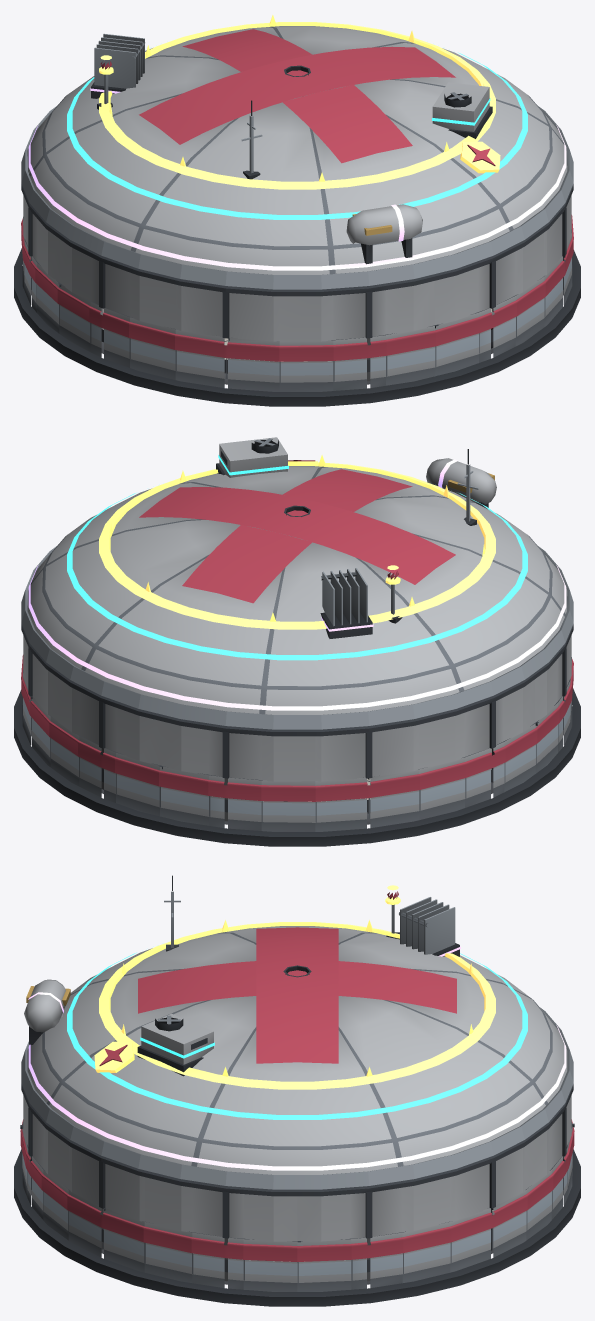
The model's file is medical_m_far.glb.
3 renders of one model, top to bottom at view 1: azimuth 30°, elevation 25°; view 2: azimuth 150°, elevation 25°; view 3: azimuth 270°, elevation 25°, orthographic.
Visible parts, largest first — view 1: Roof, Base, L2, L4, L5, L3; view 2: Roof, Base, L2, L4, L5, L3; view 3: Roof, Base, L2, L5, L4, L3.
Boxes of the visible parts, x1,y1,x2,y2 form: Roof: (21, 26, 573, 341); Base: (14, 215, 580, 406); L2: (21, 100, 573, 289); L4: (28, 33, 566, 270); L5: (97, 15, 500, 189); L3: (67, 52, 527, 219); Roof: (21, 466, 573, 781); Base: (14, 655, 580, 846); L2: (21, 449, 573, 729); L4: (28, 458, 566, 710); L5: (99, 455, 495, 629); L3: (67, 437, 527, 660); Roof: (21, 926, 573, 1241); Base: (14, 1119, 580, 1306); L2: (21, 875, 573, 1189); L5: (94, 885, 495, 1089); L4: (24, 897, 566, 1170); L3: (67, 952, 527, 1119).
Bounding box in the file's own units: 13.25 × 6.67 × 13.25.
